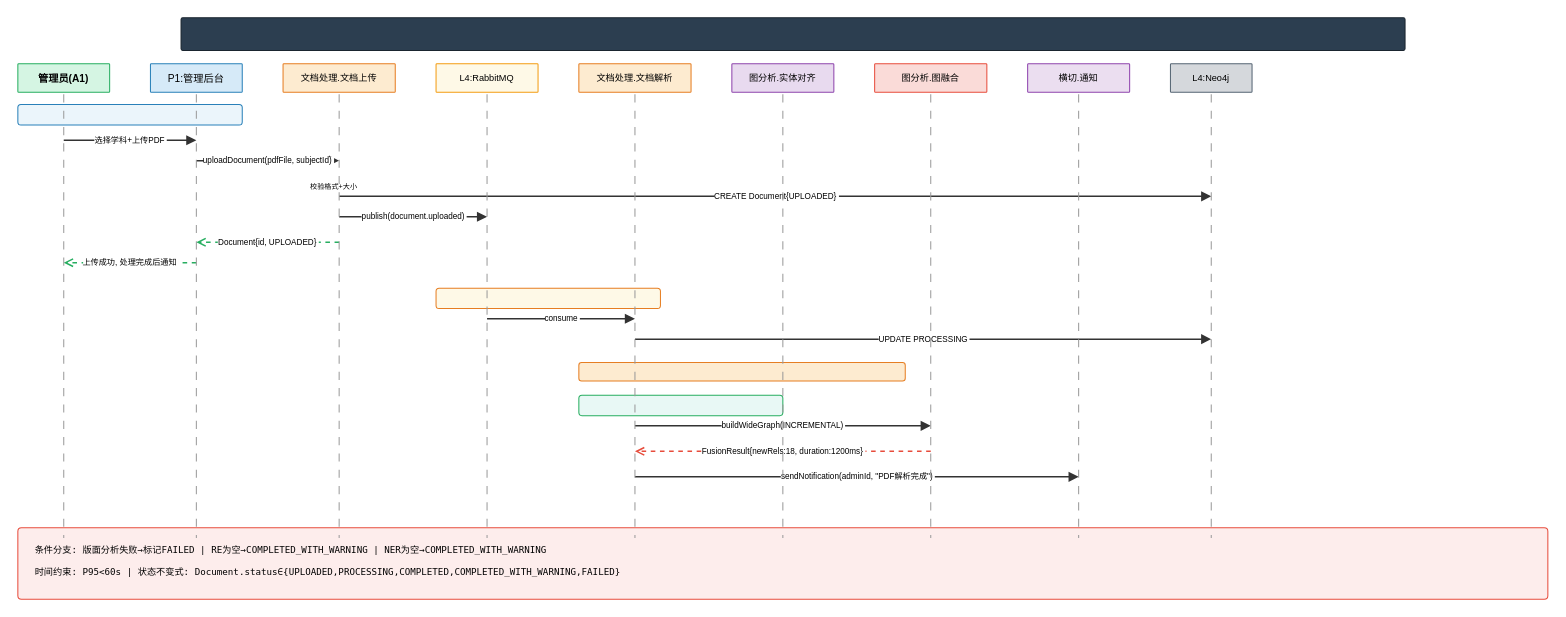
This 1566x617 diagram has some shape labels left out. Here are the shapes that lost their labels. From the top down, the centre of each, then its label:
the point at 792,33: S1 · PDF上传与图谱构建 (UC-01 · Story 1.1) — 异步流水线
the point at 129,114: 阶段1: 上传与校验 (同步, 秒级)
the point at 547,298: 阶段2: 异步处理流水线 (分钟级)
the point at 741,371: 版面分析 → NER抽取 → RE抽取 → 图谱导入 (32节点+45边)
the point at 680,405: 阶段3: 宽图谱融合与通知
